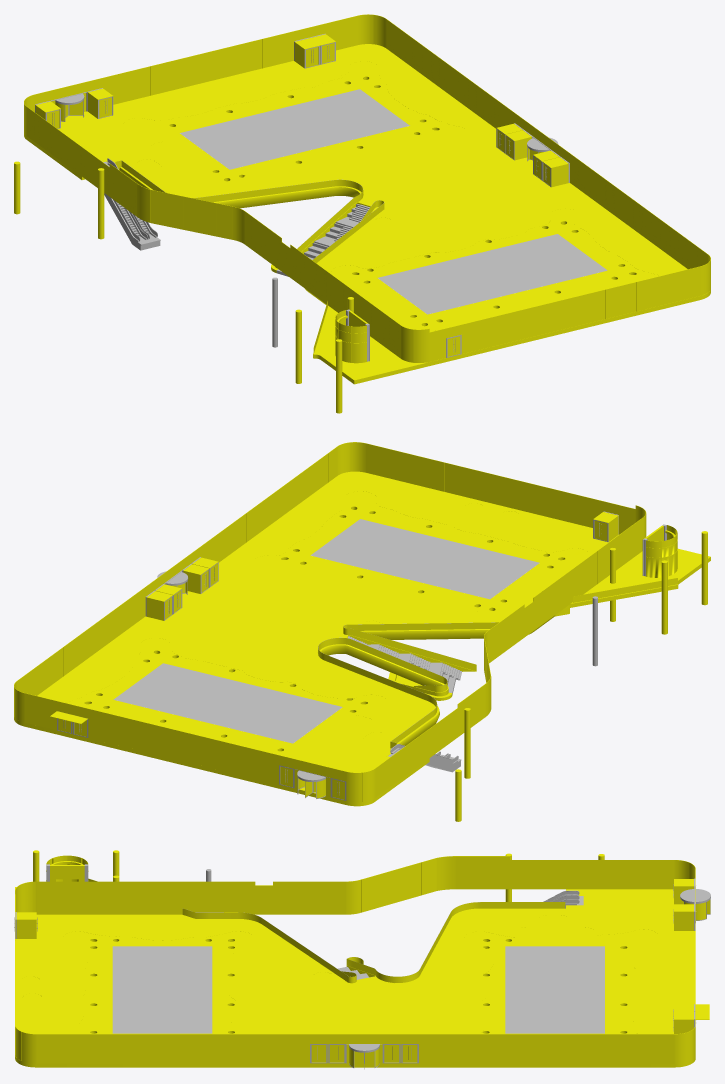
The model's file is sm_hana_building_1f_out.glb.
3 views of the same model, one above another, from view 1: azimuth 30°, elevation 25°; view 2: azimuth 150°, elevation 25°; view 3: azimuth 270°, elevation 25° (orthographic).
Parts seen in each view (by area): view 1: sm_hana_building_1f_out; view 2: sm_hana_building_1f_out; view 3: sm_hana_building_1f_out.
Boxes of the visible parts, bbox=[...] form: sm_hana_building_1f_out: bbox=[14, 14, 710, 413]; sm_hana_building_1f_out: bbox=[14, 442, 710, 821]; sm_hana_building_1f_out: bbox=[14, 850, 710, 1069].
Size of the model in its own units: 69.03 by 12.7 by 99.38.
Materials: 11 (8 with a texture image).
